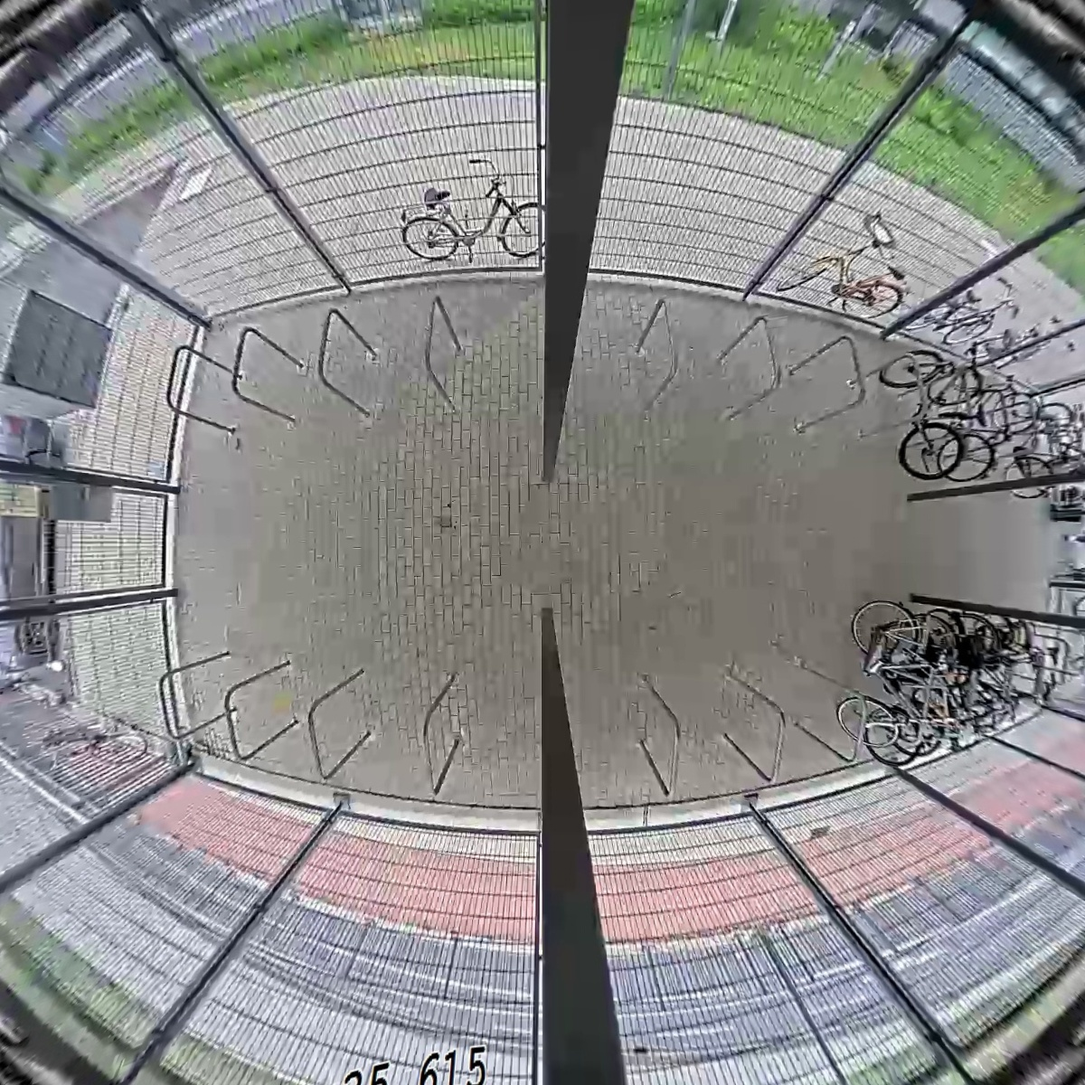bicylce: (876, 338, 988, 483), (835, 594, 923, 755), (924, 361, 1021, 489), (885, 610, 958, 762), (860, 619, 931, 770), (989, 383, 1072, 502), (909, 605, 971, 751), (939, 605, 1006, 740)
saddle: (967, 401, 989, 433), (1046, 641, 1065, 666), (942, 647, 954, 675)
